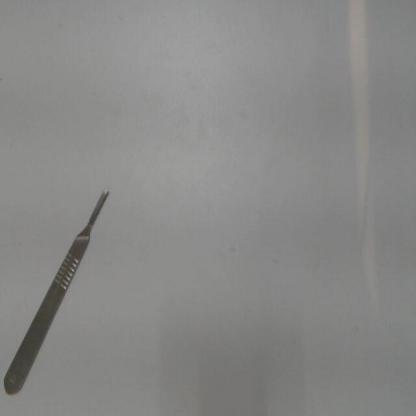No.4 BP Handle: (3, 180, 120, 409)
